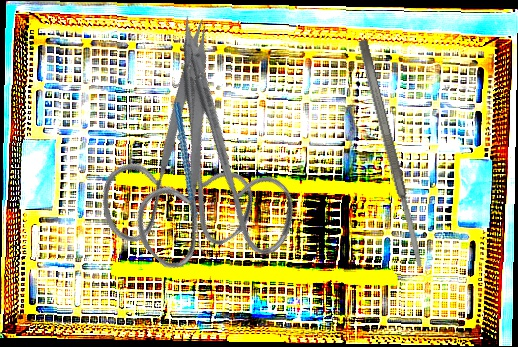Chopper: (149, 101, 236, 259)
Iris Scissors: (53, 15, 351, 315), (34, 7, 315, 292)
Spatula Surgical: (356, 38, 426, 269)
